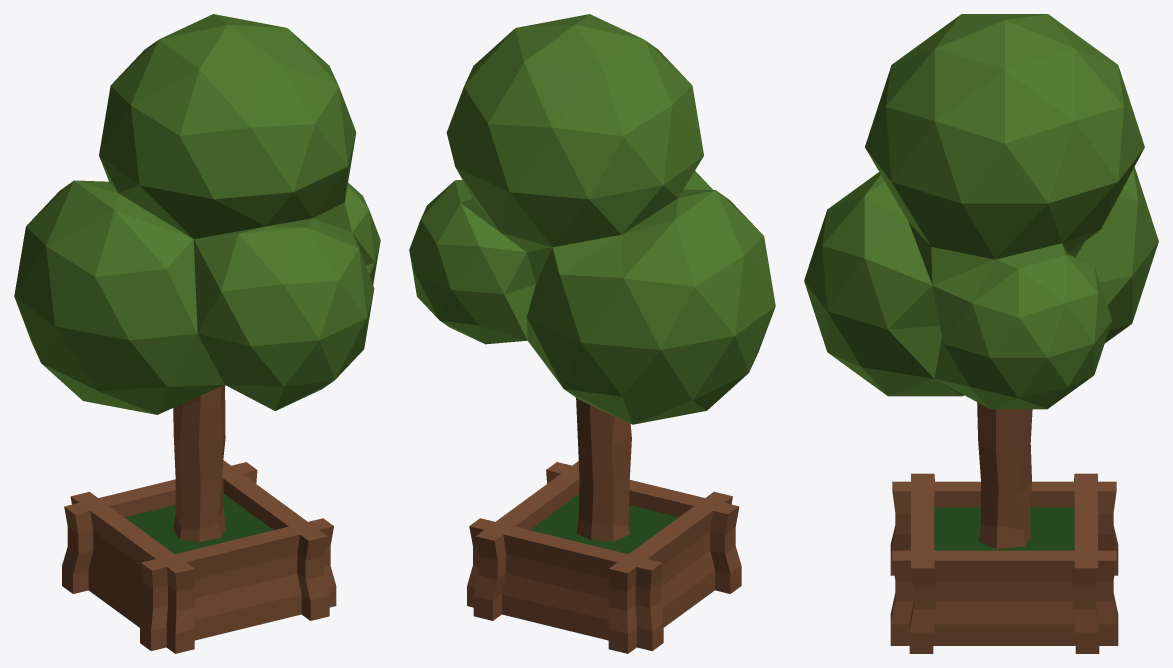
Rendered from TreeInPot6.obj.
3 renders of one model, left to right at view 1: azimuth 30°, elevation 25°; view 2: azimuth 150°, elevation 25°; view 3: azimuth 270°, elevation 25°, orthographic. The views are drawn at different scales.
Visible parts, largest first — view 1: drzewo.005; view 2: drzewo.005; view 3: drzewo.005.
Part boxes in pixels (x1,y1,x2,y2): drzewo.005: [14, 14, 380, 653]; drzewo.005: [409, 14, 775, 653]; drzewo.005: [804, 14, 1158, 653].
Size of the model in its own units: 4.38 by 7.11 by 3.8.
